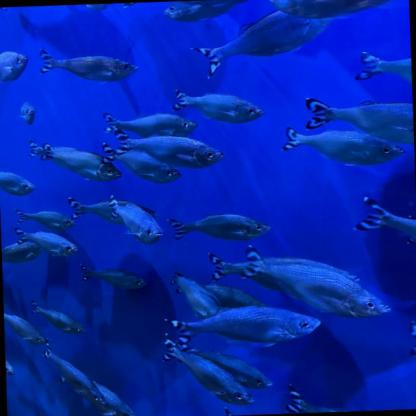fish: (206, 236, 392, 324), (190, 3, 328, 80), (156, 327, 260, 413), (164, 324, 274, 400), (36, 336, 140, 415), (154, 303, 328, 350), (300, 92, 414, 152), (277, 122, 408, 169), (66, 191, 160, 250), (110, 126, 225, 174), (99, 137, 185, 189), (35, 44, 139, 85), (40, 138, 124, 188), (169, 84, 266, 127), (352, 193, 416, 258), (167, 209, 272, 247), (99, 108, 202, 144), (264, 0, 410, 24), (73, 258, 153, 300), (281, 381, 379, 413), (352, 46, 412, 92), (168, 268, 218, 320), (29, 296, 83, 340), (157, 0, 255, 23), (12, 223, 84, 254), (3, 306, 48, 352), (11, 204, 77, 233), (26, 137, 84, 164), (0, 47, 30, 86), (0, 169, 34, 197), (1, 240, 41, 262), (15, 100, 38, 127), (402, 319, 415, 359), (85, 3, 120, 11), (5, 350, 14, 378), (0, 7, 8, 18)
